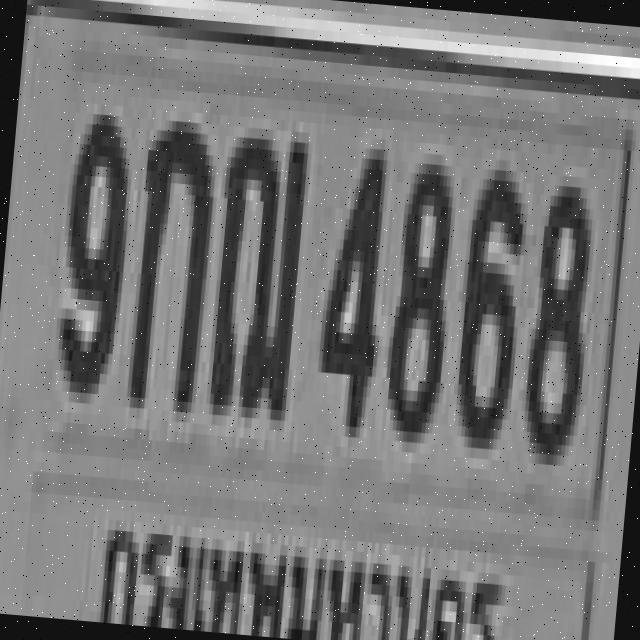10GorGai: (123, 108, 216, 402)
21ChorChoe: (202, 115, 310, 410)
4: (311, 134, 390, 428)
6: (450, 158, 528, 440)
8: (518, 174, 596, 456), (382, 152, 456, 434)
9: (52, 102, 134, 384)
Bangkok: (88, 505, 521, 640)
